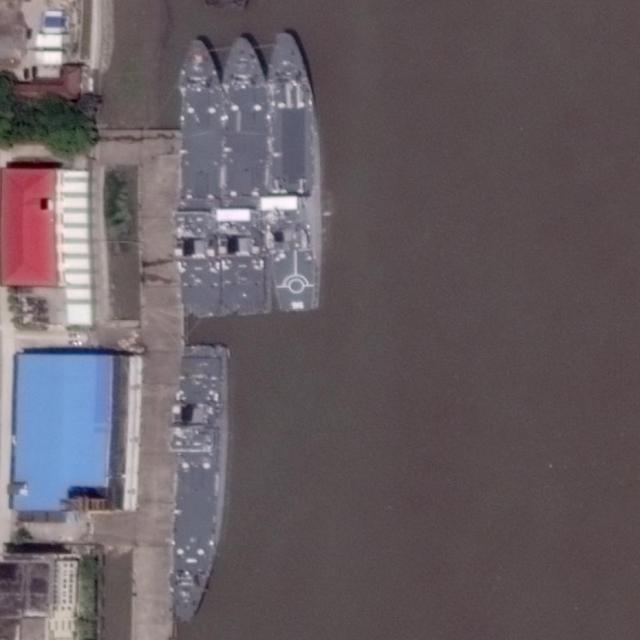Landing: (262, 32, 320, 311), (171, 345, 224, 622), (222, 33, 268, 317), (177, 34, 221, 317)
